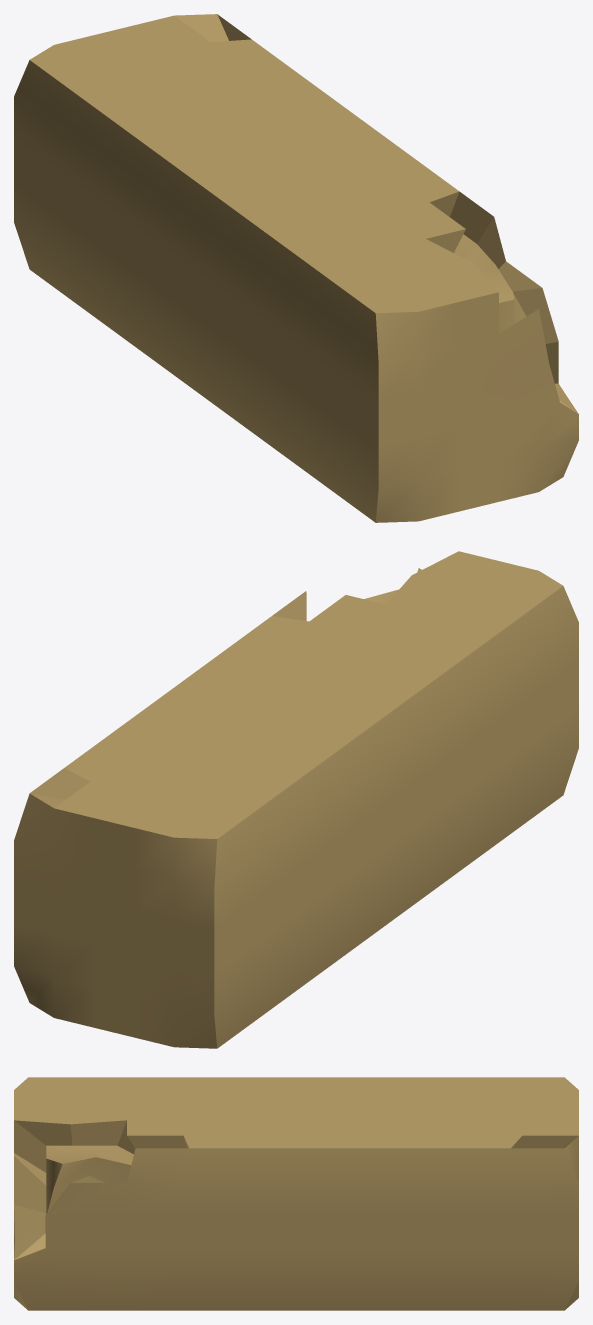
File: cracked brick 2.fbx
The picture shows the model from 3 angles, top to bottom: view 1: azimuth 30°, elevation 25°; view 2: azimuth 150°, elevation 25°; view 3: azimuth 270°, elevation 25°; orthographic projection. The views are drawn at different scales.
Parts seen in each view (by area): view 1: pCube15; view 2: pCube15; view 3: pCube15.
Boxes of the visible parts, x1=… form: pCube15: x1=14, y1=14, x2=578, y2=522; pCube15: x1=14, y1=551, x2=578, y2=1048; pCube15: x1=14, y1=1077, x2=578, y2=1310.
Size of the model in its own units: 0.714 by 0.714 by 2.25.
